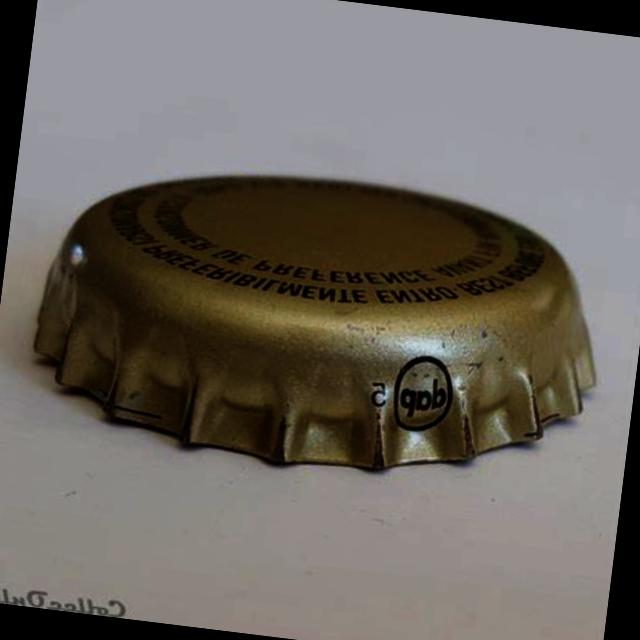Metal: (9, 147, 624, 514)
